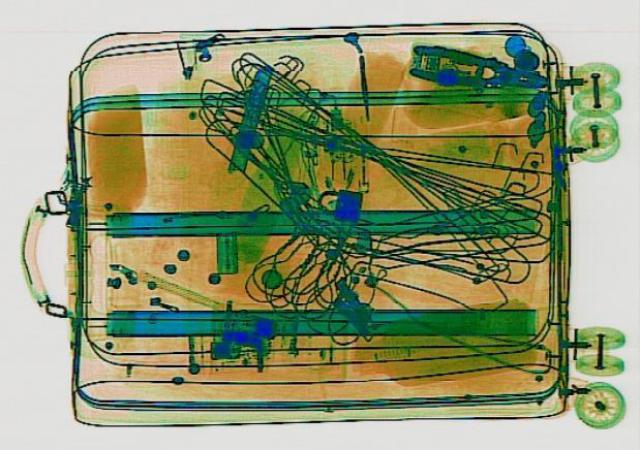Pliers: (398, 39, 552, 98)
